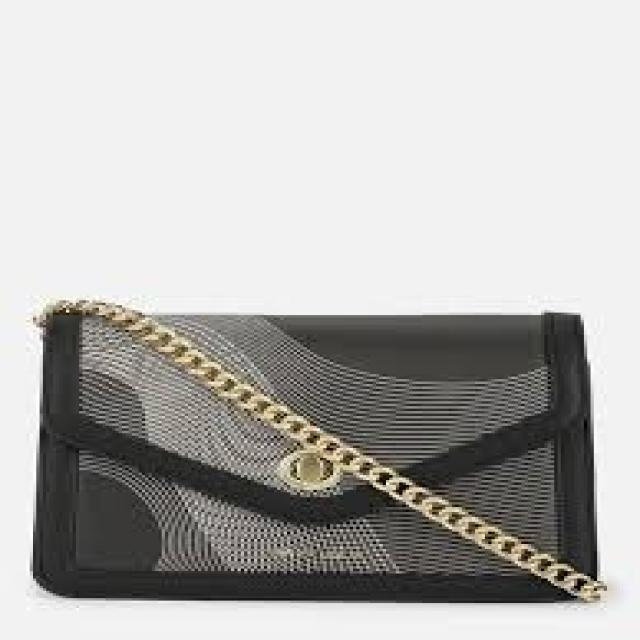handbag: (30, 298, 607, 603)
